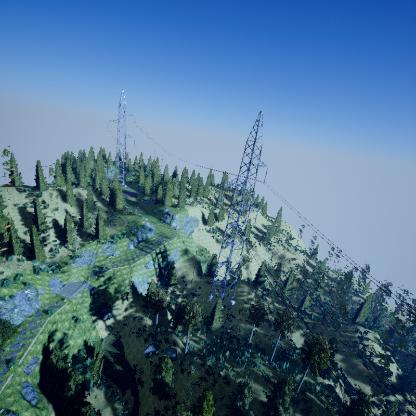tower: (205, 105, 276, 306), (103, 89, 138, 193)
